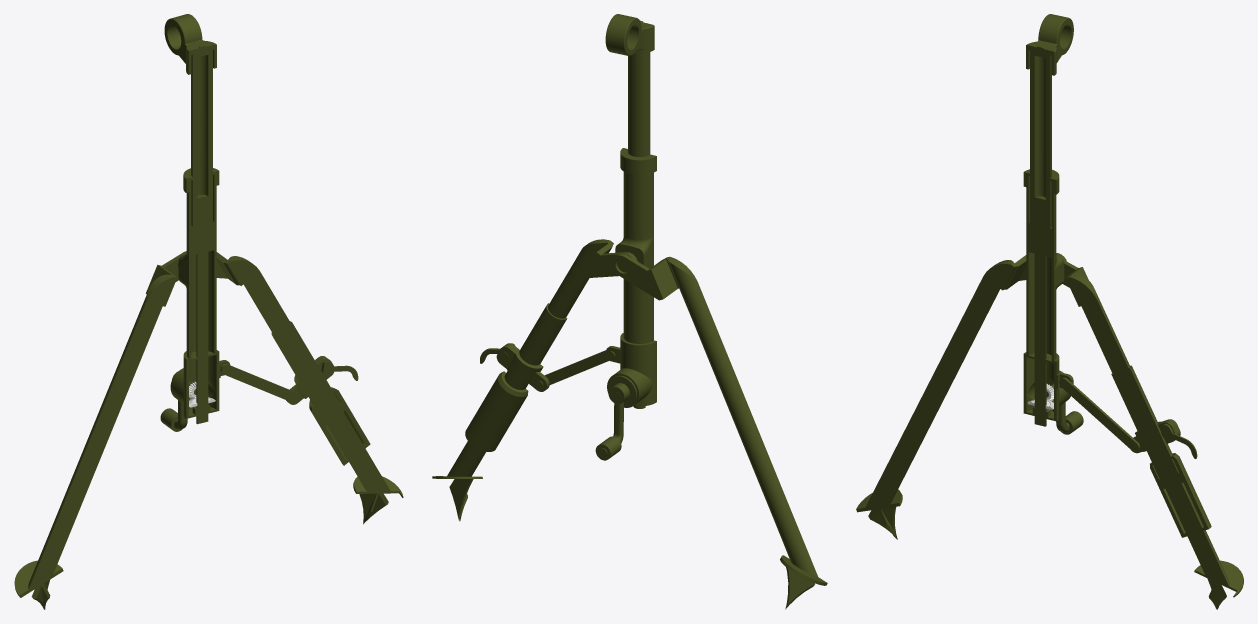
Rendered from CoCauTamCatBo.glb.
3 renders of one model, left to right at view 1: azimuth 30°, elevation 25°; view 2: azimuth 150°, elevation 25°; view 3: azimuth 330°, elevation 25°, orthographic. The views are drawn at different scales.
Parts seen in each view (by area): view 1: CoCauTamCatBo; view 2: CoCauTamCatBo; view 3: CoCauTamCatBo.
Boxes of the visible parts, x1,y1,x2,y2 form: CoCauTamCatBo: [14, 14, 403, 609]; CoCauTamCatBo: [432, 14, 827, 609]; CoCauTamCatBo: [856, 14, 1243, 609].
Size of the model in its own units: 416 by 572 by 76.1.
